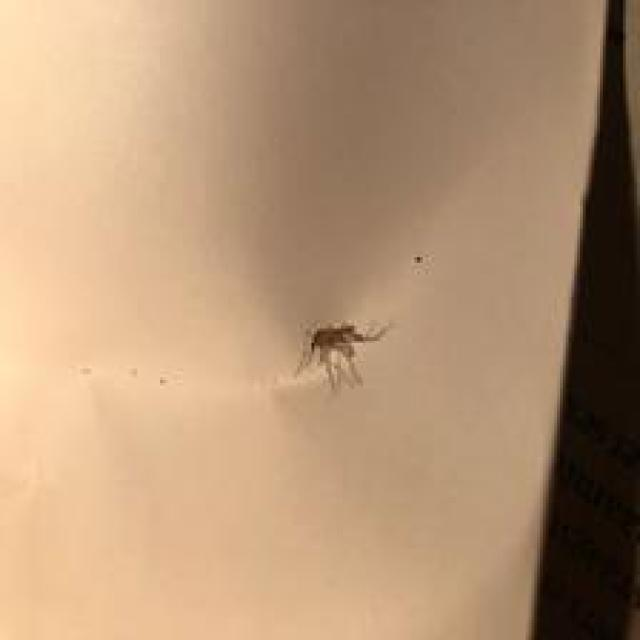Culex: (293, 317, 390, 392)
